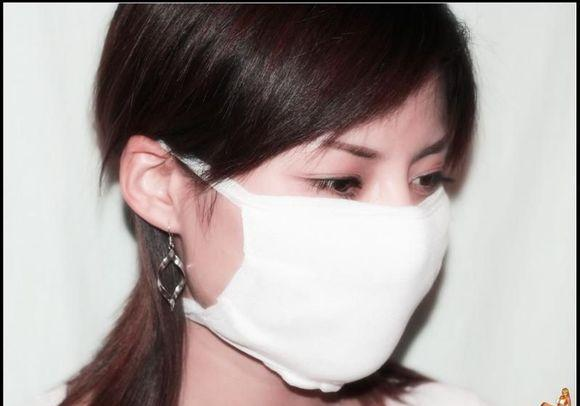OK: (185, 124, 458, 387)
